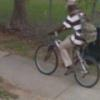bicycles: (35, 31, 62, 75), (73, 44, 100, 88)
